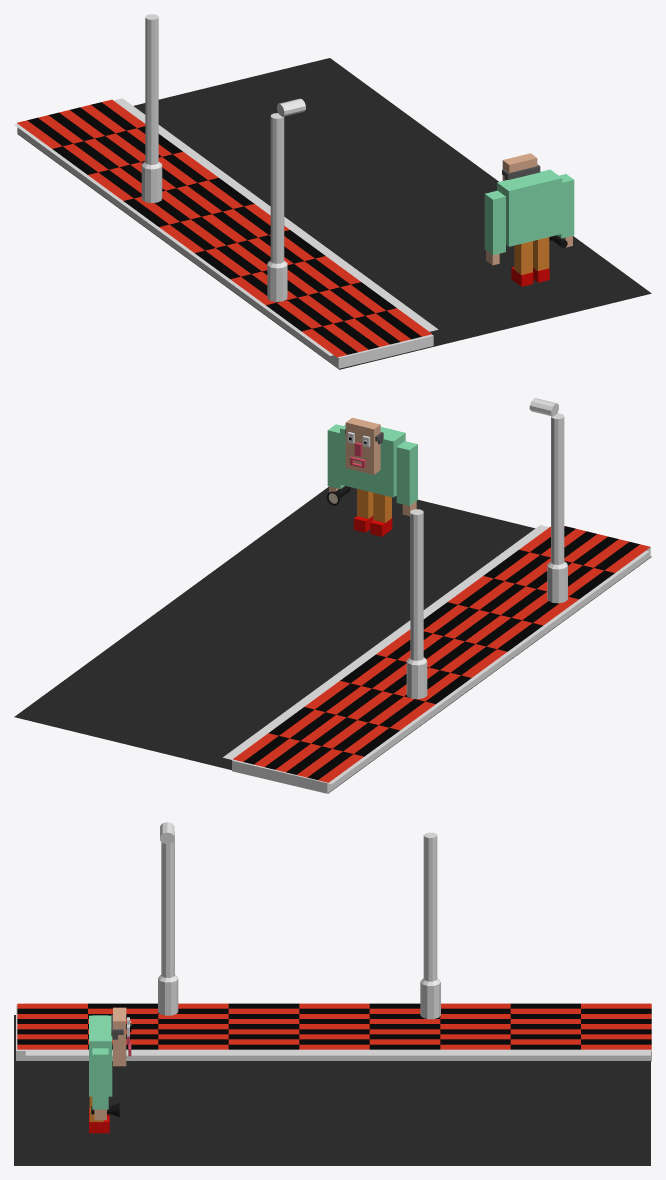
File: character-2.fbx
The picture shows the model from 3 angles, top to bottom: view 1: azimuth 30°, elevation 25°; view 2: azimuth 150°, elevation 25°; view 3: azimuth 270°, elevation 25°; orthographic projection.
Parts seen in each view (by area): view 1: Plane, Grid.001, Grid, Cube, Cube.018, Cylinder, Cylinder.001, Cube.003, Cube.002, Cube.004, Cube.005, Cube.001; view 2: Plane, Grid.001, Grid, Cube.018, Cylinder.001, Cylinder, Cube, Cube.001, Cube.003, Cube.002; view 3: Plane, Grid.001, Grid, Cube.018, Cylinder.001, Cylinder, Cube, Cube.002, Cube.001.
Boxes of the visible parts, x1=… form: Plane: x1=17, y1=58, x2=651, y2=369; Grid.001: x1=17, y1=99, x2=432, y2=357; Grid: x1=14, y1=98, x2=438, y2=355; Cube: x1=497, y1=169, x2=562, y2=246; Cube.018: x1=17, y1=127, x2=433, y2=368; Cylinder: x1=267, y1=113, x2=287, y2=301; Cylinder.001: x1=141, y1=14, x2=162, y2=202; Cube.003: x1=484, y1=190, x2=505, y2=254; Cube.002: x1=557, y1=174, x2=574, y2=238; Cube.004: x1=514, y1=241, x2=532, y2=274; Cube.005: x1=533, y1=237, x2=549, y2=270; Cube.001: x1=502, y1=153, x2=537, y2=180; Plane: x1=14, y1=487, x2=651, y2=793; Grid.001: x1=233, y1=526, x2=650, y2=782; Grid: x1=223, y1=525, x2=648, y2=784; Cube.018: x1=232, y1=542, x2=650, y2=793; Cylinder.001: x1=406, y1=509, x2=427, y2=699; Cylinder: x1=547, y1=413, x2=567, y2=603; Cube: x1=340, y1=424, x2=405, y2=497; Cube.001: x1=345, y1=417, x2=380, y2=474; Cube.003: x1=396, y1=441, x2=417, y2=505; Cube.002: x1=327, y1=424, x2=344, y2=488; Plane: x1=14, y1=1015, x2=650, y2=1165; Grid.001: x1=17, y1=1003, x2=651, y2=1049; Grid: x1=25, y1=1003, x2=650, y2=1055; Cube.018: x1=16, y1=1004, x2=651, y2=1061; Cylinder.001: x1=420, y1=832, x2=440, y2=1019; Cylinder: x1=158, y1=832, x2=178, y2=1015; Cube: x1=89, y1=1015, x2=112, y2=1096; Cube.002: x1=92, y1=1048, x2=108, y2=1109; Cube.001: x1=113, y1=1007, x2=126, y2=1066.
Size of the model in its own units: 11.86 by 7.34 by 20.97.
